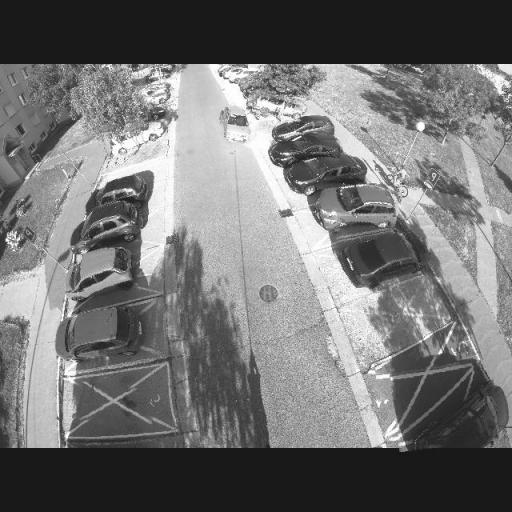busy: (392, 362, 498, 449), (333, 226, 430, 286), (66, 200, 148, 258), (317, 178, 401, 230), (68, 242, 137, 292), (286, 153, 370, 191), (103, 120, 169, 158), (276, 132, 342, 166), (91, 174, 152, 208), (218, 106, 259, 146), (276, 117, 335, 141), (253, 93, 304, 120), (138, 81, 176, 109), (223, 66, 257, 83)
free: (375, 354, 462, 400), (73, 384, 154, 426), (370, 298, 440, 338)
